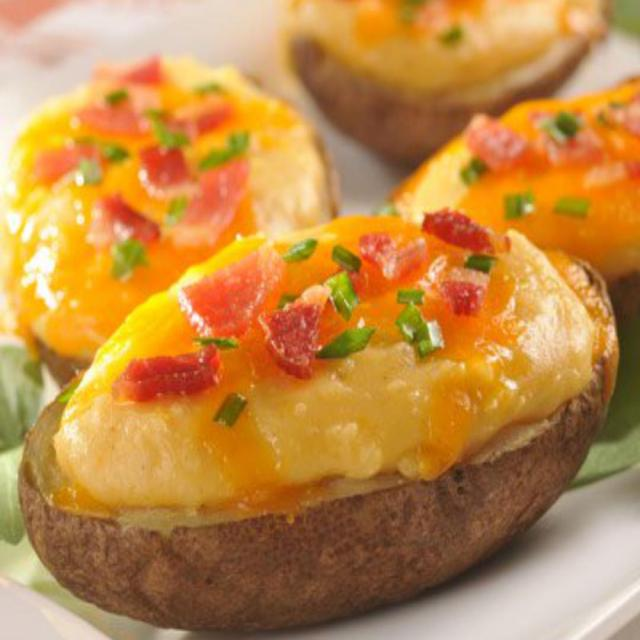papa: (10, 214, 619, 626)
